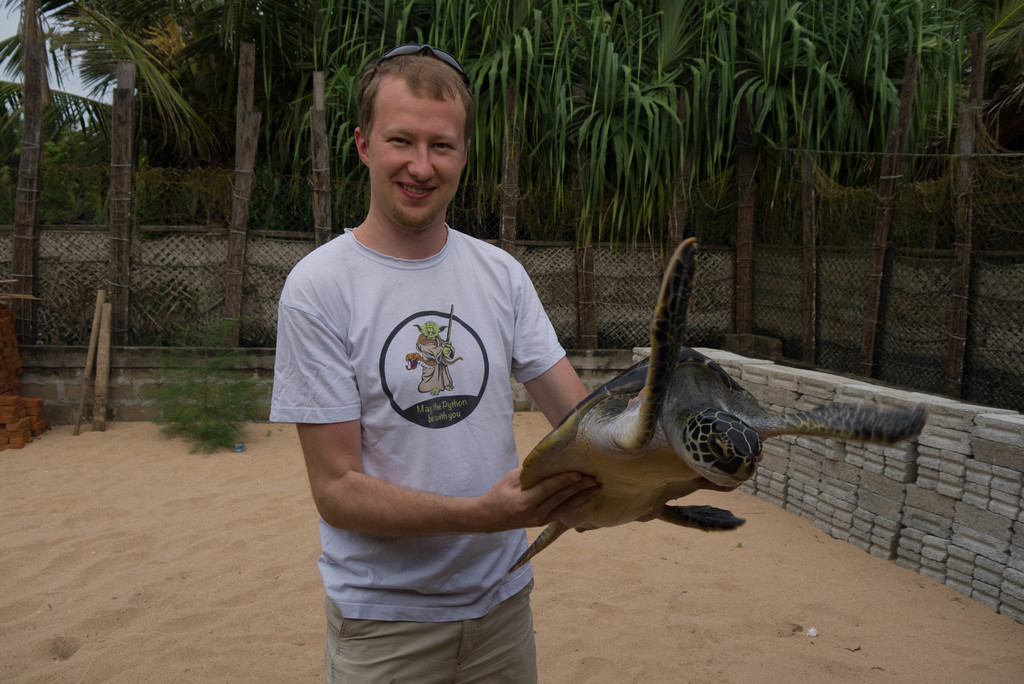Sea turtles: (503, 231, 928, 581)
